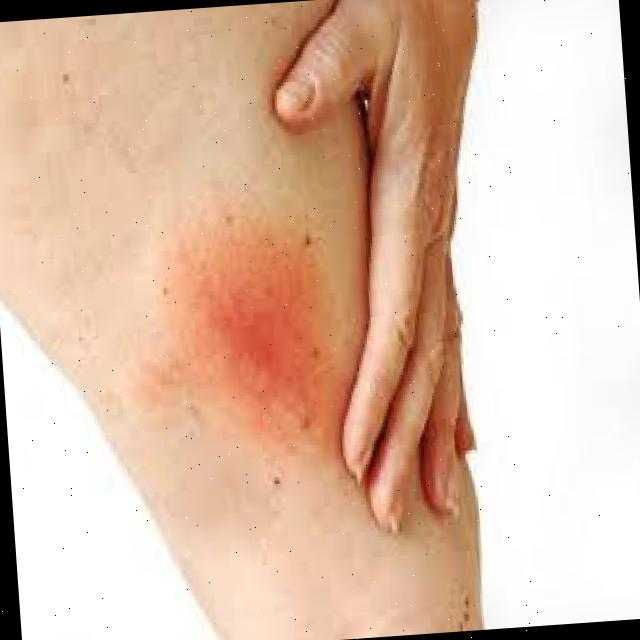kene: (158, 218, 342, 457)
